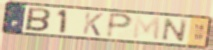1: (56, 9, 70, 35)
B: (24, 6, 53, 33)
K: (81, 11, 105, 38)
M: (132, 15, 162, 42)
N: (159, 17, 190, 43)
P: (104, 11, 136, 40)
